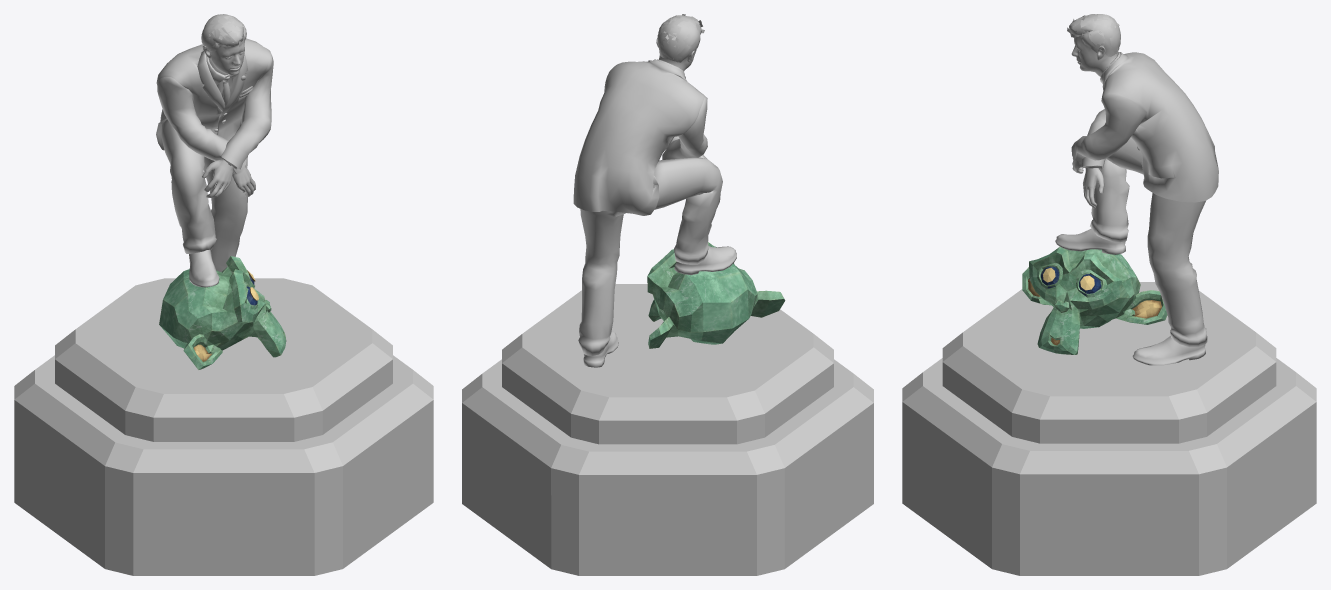
The model's file is JFKStatue.fbx.
The picture shows the model from 3 angles, left to right: view 1: azimuth 30°, elevation 25°; view 2: azimuth 150°, elevation 25°; view 3: azimuth 270°, elevation 25°; orthographic projection.
Visible parts, largest first — view 1: Circle, jfk, Suzanne; view 2: Circle, jfk, Suzanne; view 3: Circle, jfk, Suzanne.
Part boxes in pixels (x1,y1,x2,y2): Circle: [14, 278, 433, 575]; jfk: [156, 14, 273, 287]; Suzanne: [159, 256, 286, 369]; Circle: [462, 284, 873, 575]; jfk: [573, 14, 736, 367]; Suzanne: [647, 242, 785, 348]; Circle: [902, 282, 1316, 575]; jfk: [1055, 14, 1218, 365]; Suzanne: [1022, 247, 1167, 354].
Size of the model in its own units: 213 by 300 by 235.
